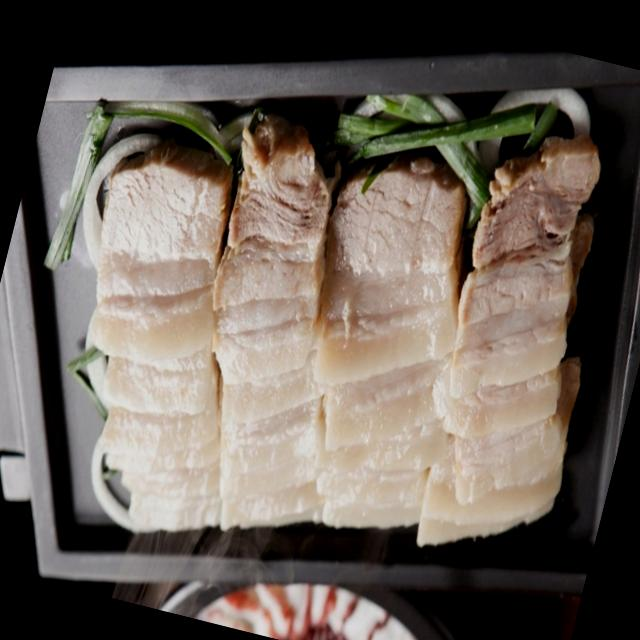thit luoc: (418, 137, 599, 544), (312, 156, 465, 528), (87, 141, 232, 531), (212, 114, 331, 529)
